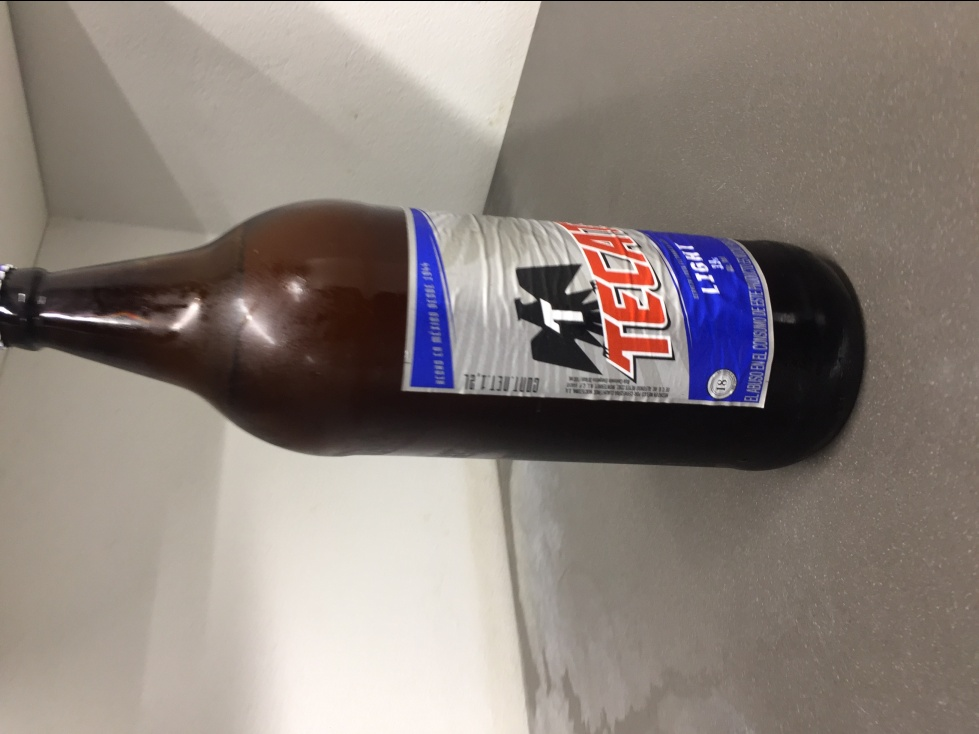tecateC: (3, 195, 866, 469)
